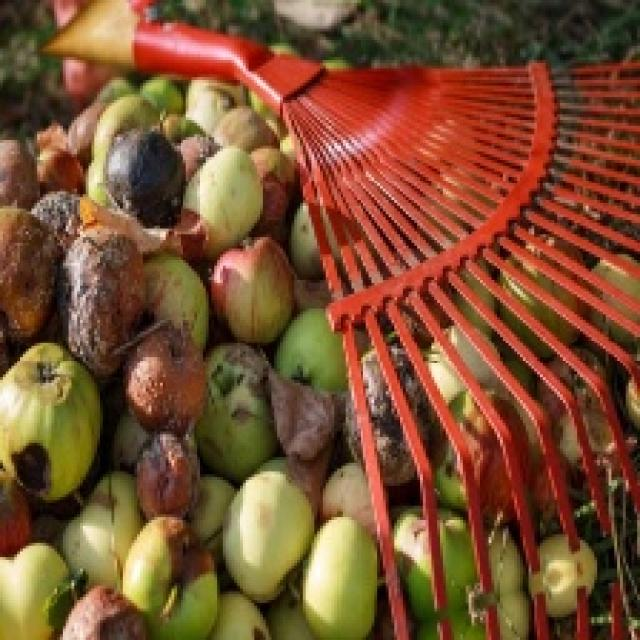rotten_apple: (0, 349, 101, 497), (125, 521, 218, 633), (204, 347, 280, 476), (67, 235, 144, 360), (129, 331, 205, 430), (0, 204, 59, 330), (104, 132, 183, 223), (134, 434, 200, 520), (64, 587, 141, 640)
